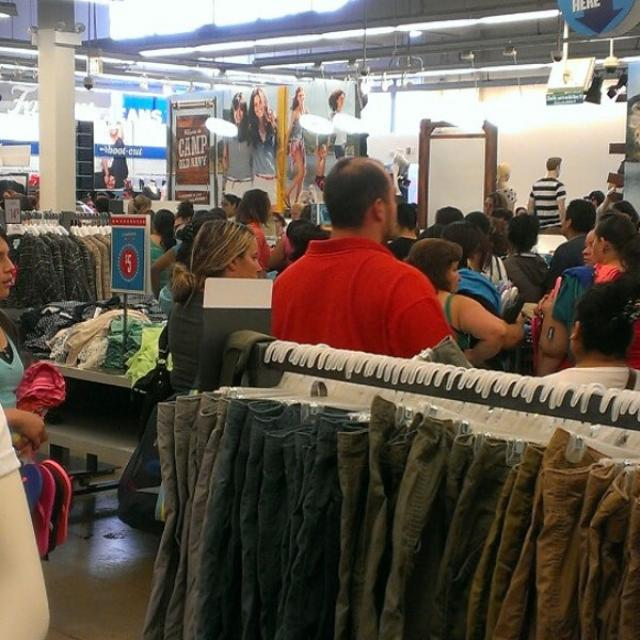body: (268, 154, 458, 362), (0, 222, 60, 640), (165, 217, 267, 398), (538, 211, 639, 371), (401, 237, 510, 369), (240, 83, 354, 202), (526, 278, 640, 389), (0, 178, 151, 220), (477, 160, 516, 310), (420, 204, 478, 293), (501, 212, 555, 305), (546, 197, 601, 288), (266, 202, 330, 271), (384, 144, 421, 262), (233, 188, 276, 280), (516, 156, 566, 234), (150, 207, 184, 303), (173, 185, 241, 232), (581, 184, 640, 228), (217, 83, 241, 186), (150, 232, 184, 298), (95, 118, 130, 180), (579, 227, 600, 270)
